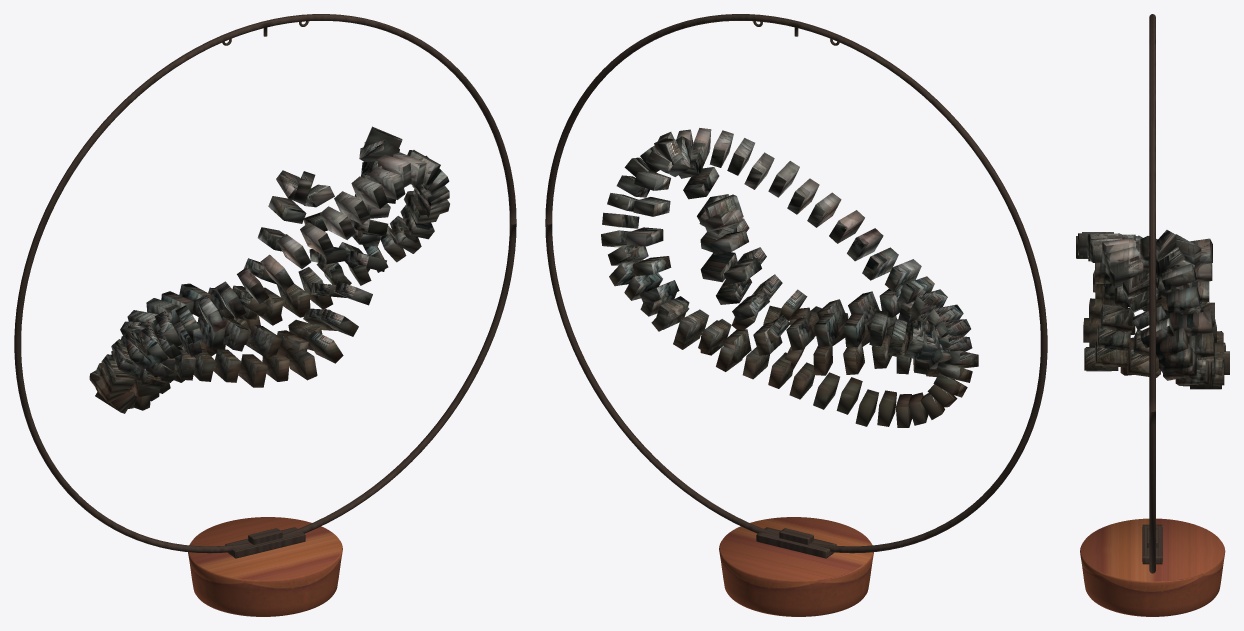
The model's file is escultura-esc-054.glb.
The picture shows the model from 3 angles, left to right: view 1: azimuth 30°, elevation 25°; view 2: azimuth 150°, elevation 25°; view 3: azimuth 270°, elevation 25°; orthographic projection. The views are drawn at different scales.
Parts seen in each view (by area): view 1: world; view 2: world; view 3: world.
Boxes of the visible parts, x1,y1,x2,y2 form: world: (14, 14, 516, 616); world: (545, 14, 1047, 616); world: (1076, 14, 1229, 616).
Bounding box in the file's own units: 0.4939 × 0.5332 × 0.1358.
1 material, 1 textured.
